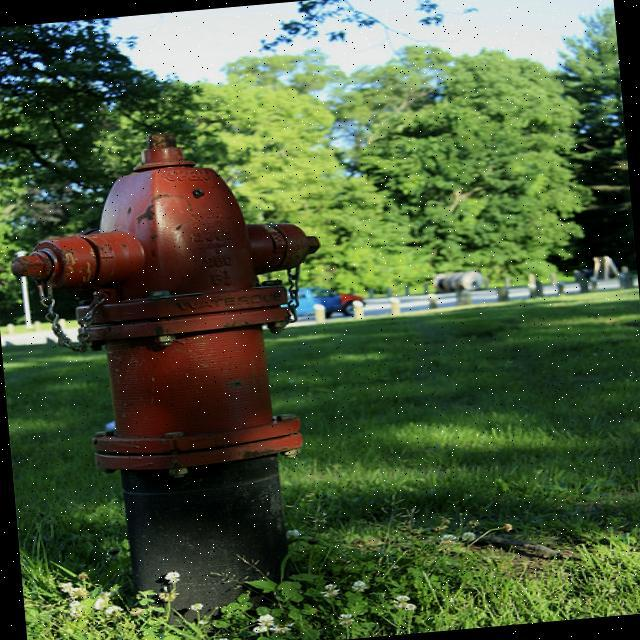fire_hydrant: (5, 115, 352, 636)
